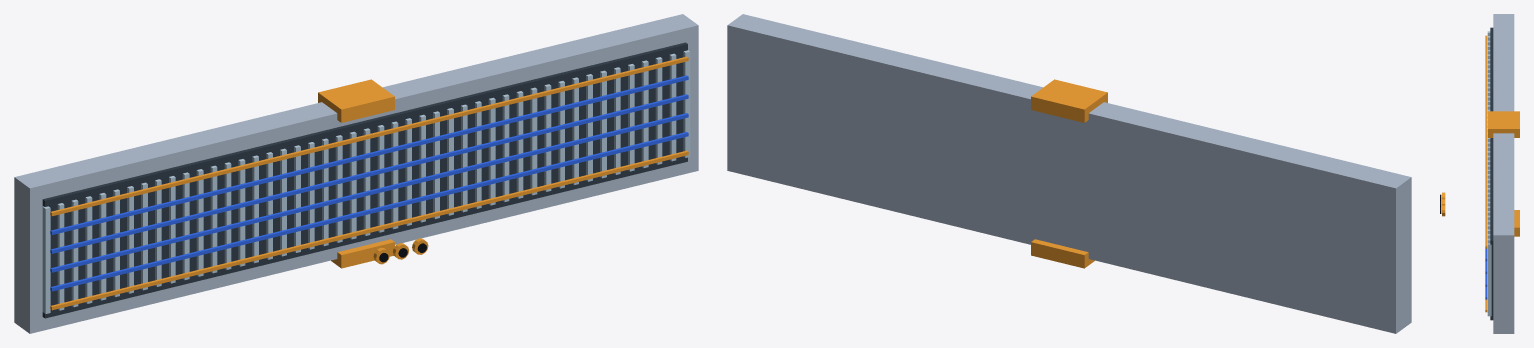
Rendered from 53_L89_ShieldPanelBottom.fbx.
3 renders of one model, left to right at view 1: azimuth 30°, elevation 25°; view 2: azimuth 150°, elevation 25°; view 3: azimuth 270°, elevation 25°, orthographic. The views are drawn at different scales.
Visible parts, largest first — view 1: L87_ShieldPanelBottom_Part_0001, L87_ShieldPanelBottom_Part_0000, L87_ShieldPanelBottom_Part_0006, L87_ShieldPanelBottom_Part_0002, L87_ShieldPanelBottom_Part_0003, L87_ShieldPanelBottom_Part_0005, L87_ShieldPanelBottom_Part_0004; view 2: L87_ShieldPanelBottom_Part_0000, L87_ShieldPanelBottom_Part_0005; view 3: L87_ShieldPanelBottom_Part_0000, L87_ShieldPanelBottom_Part_0005, L87_ShieldPanelBottom_Part_0001, L87_ShieldPanelBottom_Part_0004, L87_ShieldPanelBottom_Part_0002, L87_ShieldPanelBottom_Part_0003, L87_ShieldPanelBottom_Part_0006.
Boxes of the visible parts, left/top/right/bottom form: L87_ShieldPanelBottom_Part_0001: left=42, top=42, right=687, bottom=318; L87_ShieldPanelBottom_Part_0000: left=14, top=14, right=698, bottom=333; L87_ShieldPanelBottom_Part_0006: left=50, top=75, right=688, bottom=291; L87_ShieldPanelBottom_Part_0002: left=42, top=145, right=300, bottom=313; L87_ShieldPanelBottom_Part_0003: left=308, top=81, right=564, bottom=249; L87_ShieldPanelBottom_Part_0005: left=50, top=56, right=688, bottom=310; L87_ShieldPanelBottom_Part_0004: left=572, top=50, right=690, bottom=185; L87_ShieldPanelBottom_Part_0000: left=727, top=14, right=1411, bottom=333; L87_ShieldPanelBottom_Part_0005: left=1031, top=79, right=1107, bottom=268; L87_ShieldPanelBottom_Part_0000: left=1493, top=14, right=1514, bottom=333; L87_ShieldPanelBottom_Part_0005: left=1485, top=35, right=1519, bottom=312; L87_ShieldPanelBottom_Part_0001: left=1490, top=27, right=1493, bottom=320; L87_ShieldPanelBottom_Part_0004: left=1487, top=206, right=1491, bottom=316; L87_ShieldPanelBottom_Part_0002: left=1487, top=31, right=1490, bottom=118; L87_ShieldPanelBottom_Part_0003: left=1487, top=119, right=1490, bottom=206; L87_ShieldPanelBottom_Part_0006: left=1485, top=248, right=1487, bottom=299.
Bounding box in the file's own units: 625 × 142 × 95.2.
